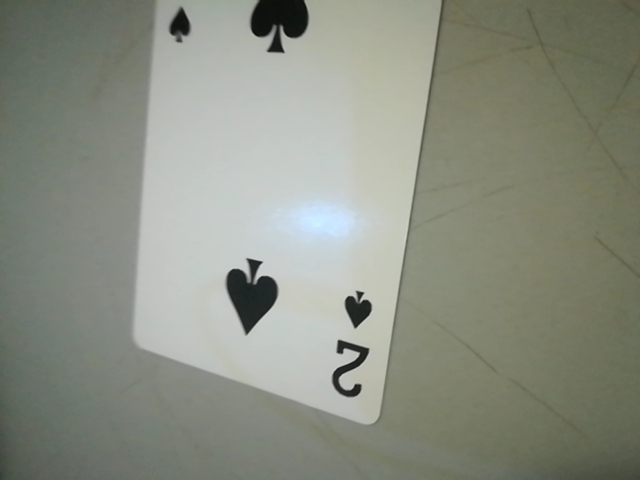ht 2: (316, 270, 385, 419)
